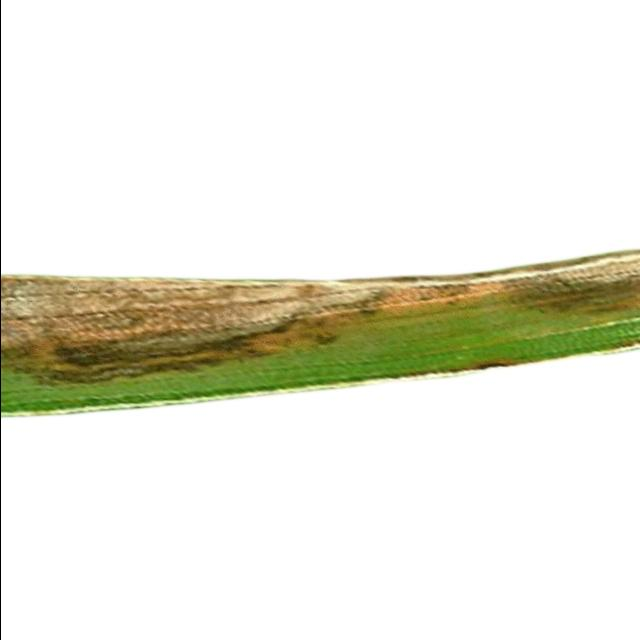Leaf scald: (0, 195, 640, 476)
